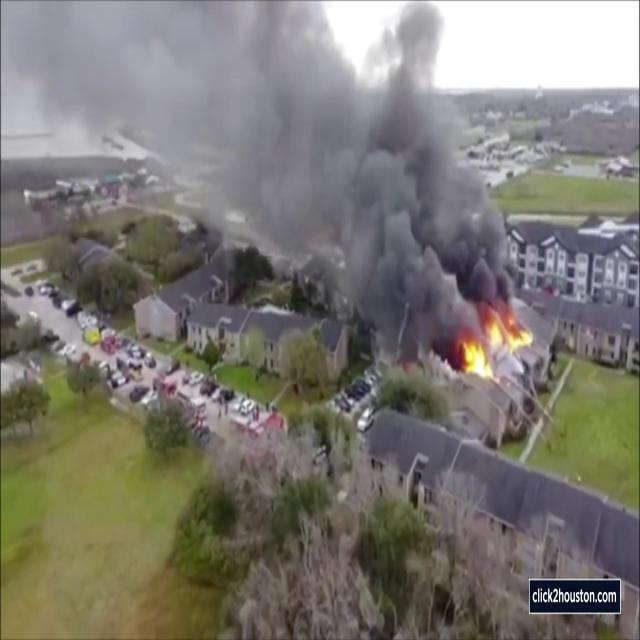Fire: (460, 306, 535, 378)
Smoke: (6, 1, 516, 337)
